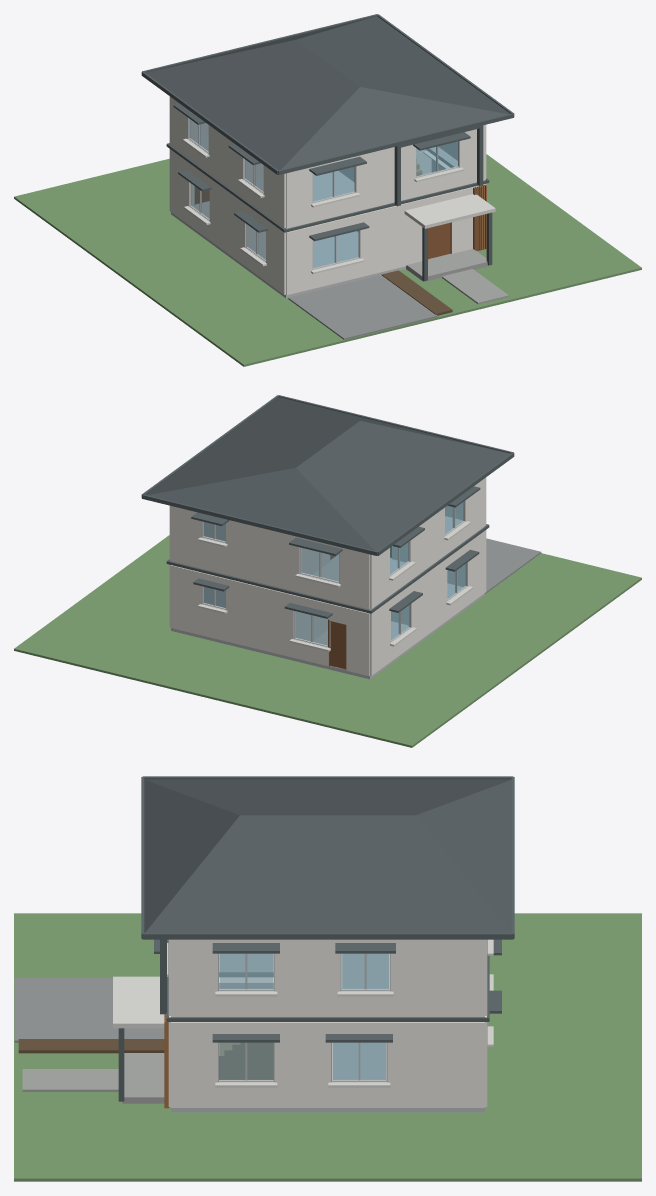
The model's file is house_200sqm.glb.
3 views of the same model, one above another, from view 1: azimuth 30°, elevation 25°; view 2: azimuth 150°, elevation 25°; view 3: azimuth 270°, elevation 25° (orthographic). The views are drawn at different scales.
Visible parts, largest first — view 1: Site_Ground, roof_visual_hip, wall_g_south, wall_u_south, wall_g_west, front_drive, wall_u_west, slab_g_200sqm, front_entry_canopy, slab_u_200sqm, front_entry_deck, fascia_front (+12 smaller); view 2: Site_Ground, roof_visual_hip, wall_g_north, wall_u_north, wall_g_west, wall_u_west, front_drive, slab_g_200sqm, fascia_rear, window_u_north_bed3_glass, slab_u_200sqm, fascia_west (+8 smaller); view 3: Site_Ground, roof_visual_hip, wall_g_east, wall_u_east, front_drive, slab_g_200sqm, slab_u_200sqm, fascia_east, front_entry_canopy, front_walk, front_entry_deck, garden_bed_left (+12 smaller).
Part boxes in pixels (x1,y1,x2,y2): Site_Ground: (14, 154, 641, 366); roof_visual_hip: (146, 16, 509, 170); wall_g_south: (286, 184, 485, 294); wall_u_south: (286, 124, 485, 228); wall_g_west: (169, 149, 285, 294); front_drive: (288, 275, 437, 339); wall_u_west: (169, 96, 285, 228); slab_g_200sqm: (171, 201, 484, 298); front_entry_canopy: (404, 194, 495, 228); slab_u_200sqm: (171, 136, 484, 229); front_entry_deck: (406, 249, 490, 281); fascia_front: (278, 113, 513, 174); Site_Ground: (14, 535, 641, 747); roof_visual_hip: (146, 397, 509, 551); wall_g_north: (170, 565, 369, 675); wall_u_north: (170, 505, 369, 609); wall_g_west: (370, 530, 486, 675); wall_u_west: (370, 477, 486, 609); front_drive: (485, 538, 541, 593); slab_g_200sqm: (171, 583, 484, 679); fascia_rear: (142, 494, 377, 555); window_u_north_bed3_glass: (301, 548, 338, 581); slab_u_200sqm: (171, 516, 484, 610); fascia_west: (377, 452, 514, 555); Site_Ground: (14, 913, 641, 1181); roof_visual_hip: (144, 779, 511, 932); wall_g_east: (171, 1022, 484, 1107); wall_u_east: (171, 939, 484, 1016); front_drive: (14, 978, 164, 1042); slab_g_200sqm: (171, 1042, 484, 1112); slab_u_200sqm: (171, 953, 484, 1017); fascia_east: (142, 933, 513, 939); front_entry_canopy: (113, 976, 164, 1028); front_walk: (22, 1069, 118, 1091); front_entry_deck: (122, 1053, 164, 1103); garden_bed_left: (18, 1039, 164, 1053).
Bounding box in the file's own units: 20 × 8.21 × 20.
